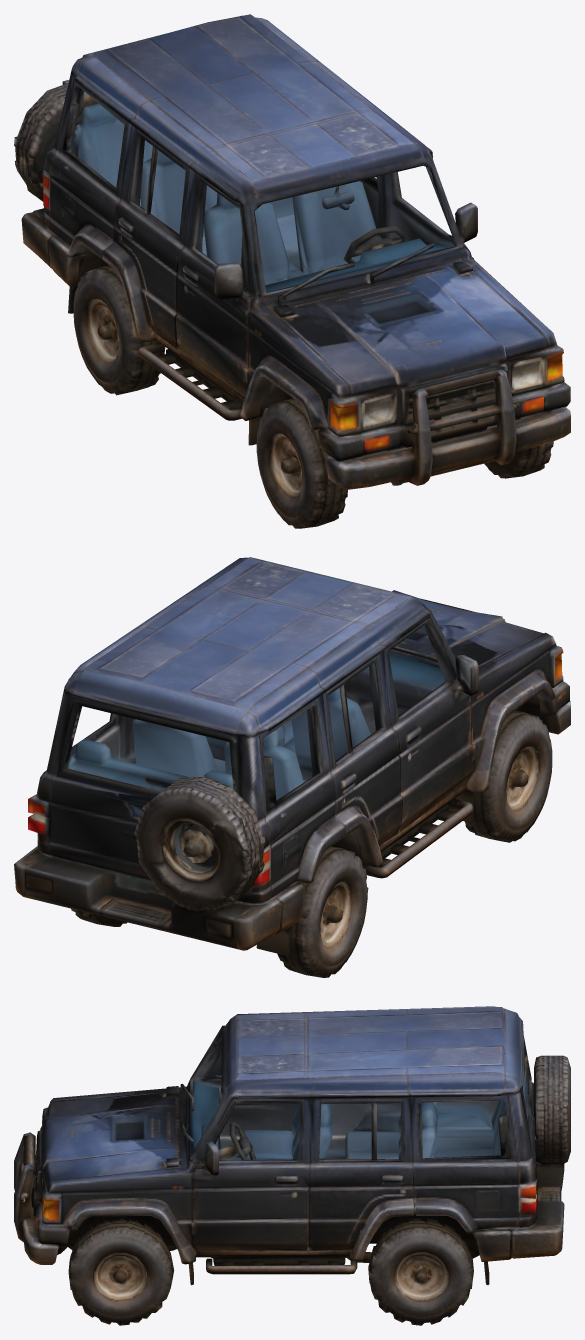
File: jeep.glb
3 renders of one model, top to bottom at view 1: azimuth 30°, elevation 25°; view 2: azimuth 150°, elevation 25°; view 3: azimuth 270°, elevation 25°, orthographic. The views are drawn at different scales.
Visible parts, largest first — view 1: tripo_node_ab81f238-7173-4d7c-bc92-acc64c23b21a; view 2: tripo_node_ab81f238-7173-4d7c-bc92-acc64c23b21a; view 3: tripo_node_ab81f238-7173-4d7c-bc92-acc64c23b21a.
Boxes of the visible parts, x1,y1,x2,y2 form: tripo_node_ab81f238-7173-4d7c-bc92-acc64c23b21a: (14,14,570,528); tripo_node_ab81f238-7173-4d7c-bc92-acc64c23b21a: (14,557,570,977); tripo_node_ab81f238-7173-4d7c-bc92-acc64c23b21a: (14,1006,570,1325).
Bounding box in the file's own units: 0.4349 × 0.4693 × 0.9789.
Materials: 1 (1 with a texture image).
